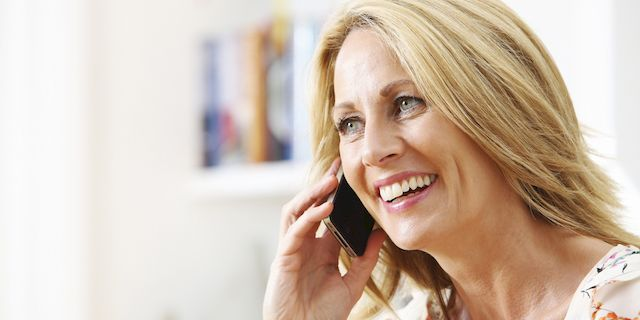phone: (322, 165, 385, 262)
talk: (260, 76, 470, 320)
